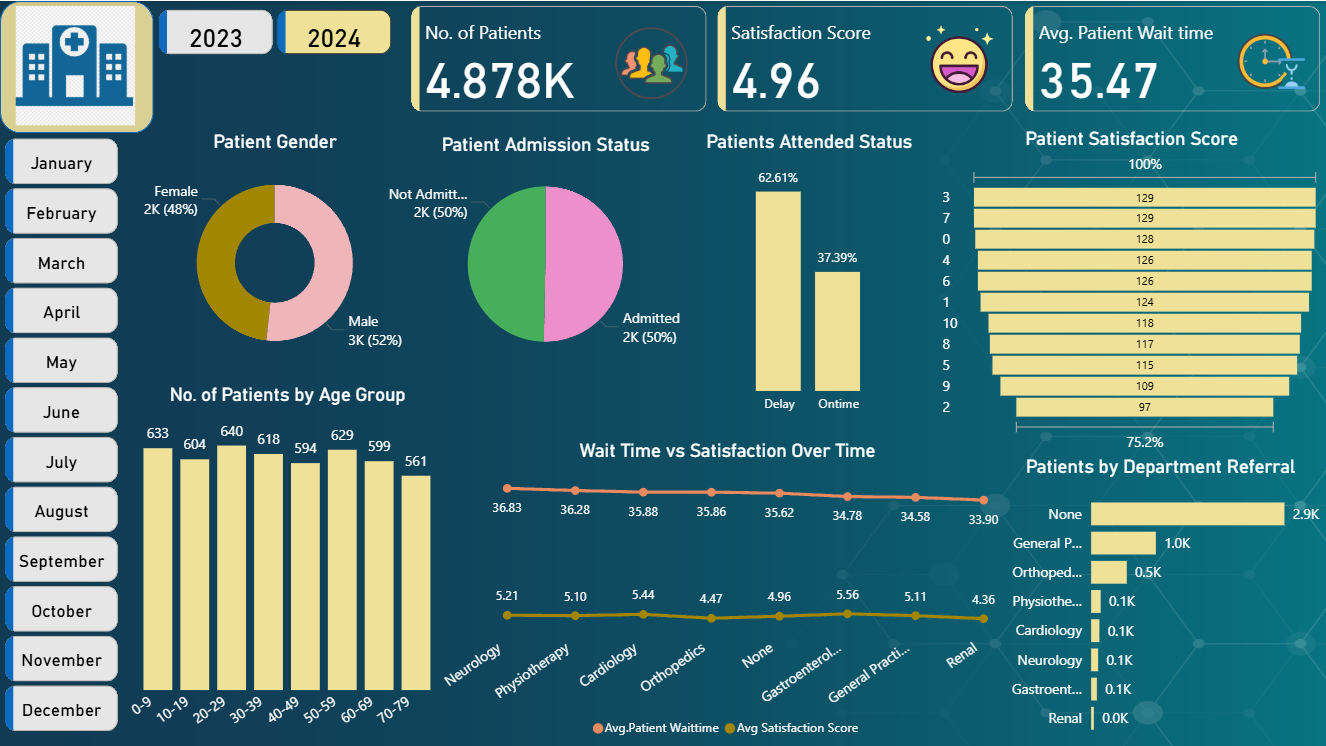

What the dashboard file says about the page in this screenshot:
{"tool":"powerbi","page":{"name":"Page 1","canvas":[1280,720],"ordinal":0},"visuals":[{"type":"shape","box":[6.9,11,160.5,138.6],"z":0},{"type":"image","box":[5.5,11,161.9,140],"z":1000},{"type":"advancedSlicerVisual","fields":{"Values":["Hospital Emergency Room Data (1).Patient Admission Date.Variation.Date Hierarchy.Year"]},"box":[179.8,11,301.9,70],"z":2000},{"type":"advancedSlicerVisual","fields":{"Values":["Hospital Emergency Room Data (1).Patient Admission Date.Variation.Date Hierarchy.Month"]},"box":[9.6,155.1,157.8,555.7],"z":3000},{"type":"clusteredColumnChart","title":"Count of Patients by Department Referral","fields":{"Category":["Hospital Emergency Room Data (1).Department Referral"],"Y":["CountNonNull(Hospital Emergency Room Data (1).Department Referral)"]},"box":[882.3,433.6,389.7,277.2],"z":4000},{"type":"donutChart","title":"Patient Gender","fields":{"Category":["Hospital Emergency Room Data (1).Patient Gender"],"Y":["CountNonNull(Hospital Emergency Room Data (1).Patient Gender)"]},"box":[179.8,93.3,301.9,159.2],"z":5000},{"type":"cardVisual","fields":{"Data":["Hospital Emergency Room Data (1).No. of Patients","Avg(Hospital Emergency Room Data (1).Patient Waittime)","Avg(Hospital Emergency Room Data (1).Patient Satisfaction Score)"]},"box":[491.3,8.2,780.8,101.5],"z":6000},{"type":"areaChart","title":"No. of Patients","fields":{"Y":["Hospital Emergency Room Data (1).No. of Patients"],"Category":["Hospital Emergency Room Data (1).Patient Admission Date.Variation.Date Hierarchy.Month","Hospital Emergency Room Data (1).Patient Admission Date.Variation.Date Hierarchy.Day"]},"box":[491.3,122.1,780.8,93.3],"z":6001},{"type":"areaChart","fields":{"Category":["Hospital Emergency Room Data (1).Patient Admission Date.Variation.Date Hierarchy.Day"],"Y":["Avg(Hospital Emergency Room Data (1).Patient Waittime)"]},"box":[491.3,226.4,780.8,91.9],"z":6002},{"type":"areaChart","fields":{"Category":["Hospital Emergency Room Data (1).Patient Admission Date.Variation.Date Hierarchy.Day"],"Y":["Avg(Hospital Emergency Room Data (1).Patient Satisfaction Score)"]},"box":[491.3,329.3,780.8,94.7],"z":6003},{"type":"pieChart","title":"Patients Admission Status","fields":{"Category":["Hospital Emergency Room Data (1).Patient Admission Flag"],"Y":["CountNonNull(Hospital Emergency Room Data (1).Patient Admission Flag)"]},"box":[179.8,263.5,301.9,160.5],"z":6004},{"type":"clusteredColumnChart","fields":{"Category":["Hospital Emergency Room Data (1).Age Group"],"Y":["CountNonNull(Hospital Emergency Room Data (1).Patient Id)"]},"box":[179.8,433.6,376,277.2],"z":6005},{"type":"pieChart","title":"Patients Attended within Time","fields":{"Category":["Hospital Emergency Room Data (1).Attendance Status"],"Y":["CountNonNull(Hospital Emergency Room Data (1).Attendance Status)"]},"box":[565.4,433.6,307.4,277.2],"z":6006}]}

Visuals, with their boxes in screenshot pixels (x1, y1, x2, y2), scaled from the page's 1280x720 canvas onto the 1326x746 screenshot:
shape: (7,11,173,155)
image: (6,11,173,156)
advancedSlicerVisual - Hospital Emergency Room Data (1).Patient Admission Date.Variation.Date Hierarchy.Year: (186,11,499,84)
advancedSlicerVisual - Hospital Emergency Room Data (1).Patient Admission Date.Variation.Date Hierarchy.Month: (10,161,173,736)
"Count of Patients by Department Referral" clusteredColumnChart: (914,449,1318,736)
"Patient Gender" donutChart: (186,97,499,262)
cardVisual - Hospital Emergency Room Data (1).No. of Patients x Avg(Hospital Emergency Room Data (1).Patient Waittime): (509,8,1318,114)
"No. of Patients" areaChart: (509,127,1318,223)
areaChart - Hospital Emergency Room Data (1).Patient Admission Date.Variation.Date Hierarchy.Day x Avg(Hospital Emergency Room Data (1).Patient Waittime): (509,235,1318,330)
areaChart - Hospital Emergency Room Data (1).Patient Admission Date.Variation.Date Hierarchy.Day x Avg(Hospital Emergency Room Data (1).Patient Satisfaction Score): (509,341,1318,439)
"Patients Admission Status" pieChart: (186,273,499,439)
clusteredColumnChart - Hospital Emergency Room Data (1).Age Group x CountNonNull(Hospital Emergency Room Data (1).Patient Id): (186,449,576,736)
"Patients Attended within Time" pieChart: (586,449,904,736)
